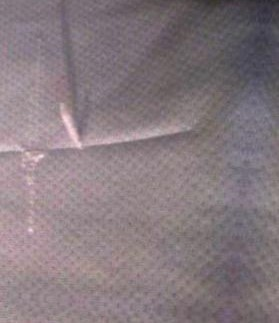snag: (45, 95, 95, 157)
